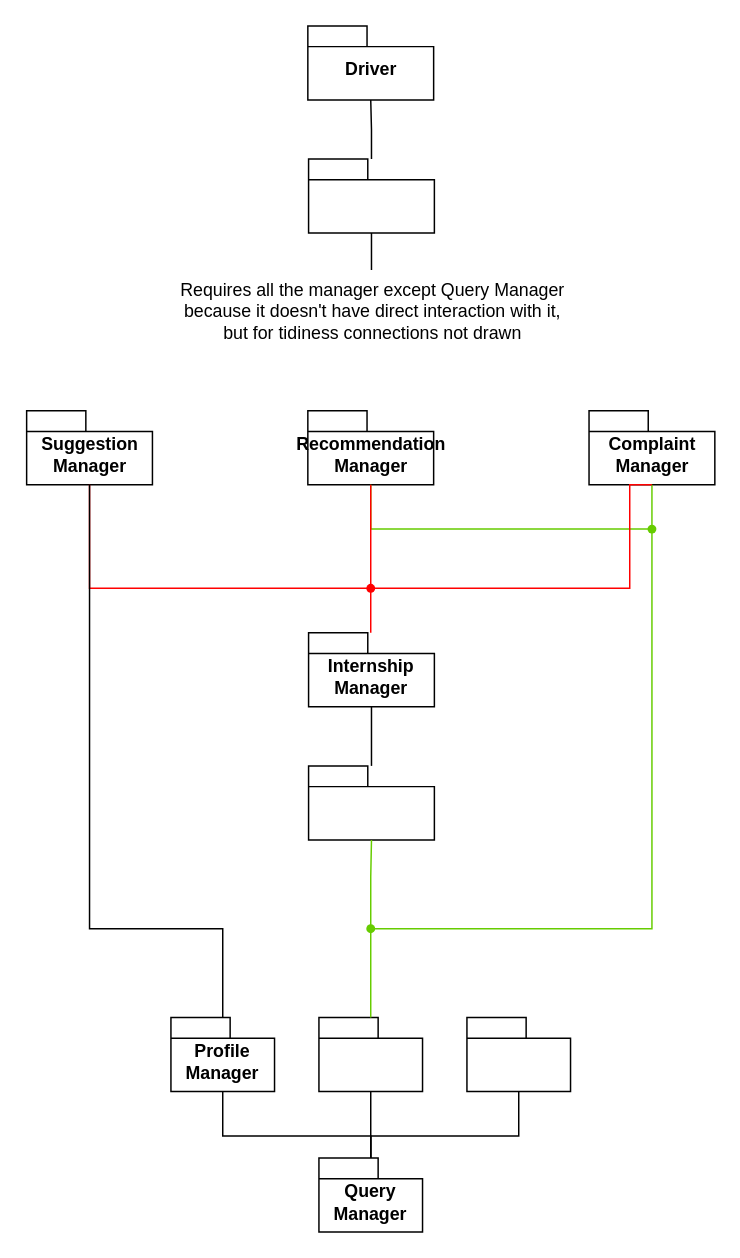
Image size: 740x1258. Some labels were removed from this diagram. The box of each missing label's shape, as (x1, y1, x2, y2) in pixels:
Dashboard Manager: (307, 158, 434, 233)
Login Manager: (465, 1016, 571, 1092)
Notification Manager: (317, 1016, 423, 1092)
Questionnaire Manager: (307, 764, 434, 840)
